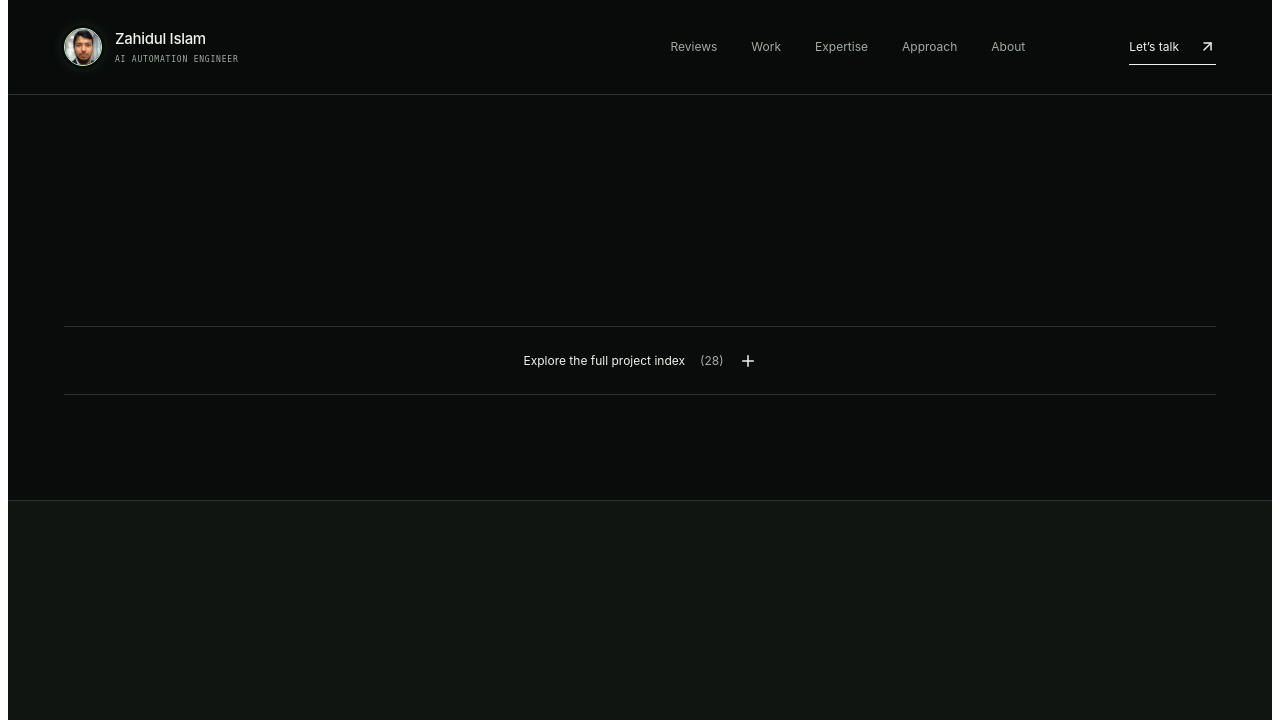
project dialog › makes non-featured tooling images accessible from the complete index
(page scrolled)
Click the button "Explore the full project index (28)" at point(640, 360), box x1=524 y1=341 x2=757 y2=380
(page scrolled)
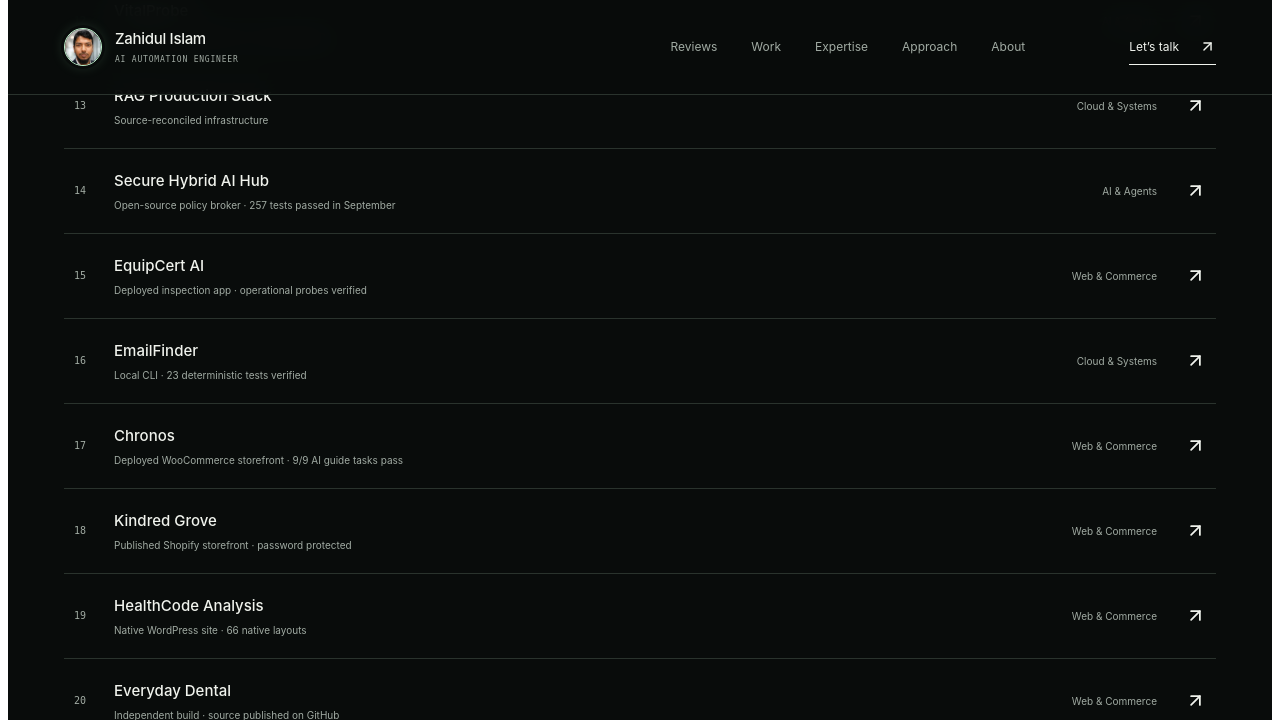
Click the link that starts with "EmailFinder" at point(156, 350), box x1=64 y1=318 x2=1216 y2=402
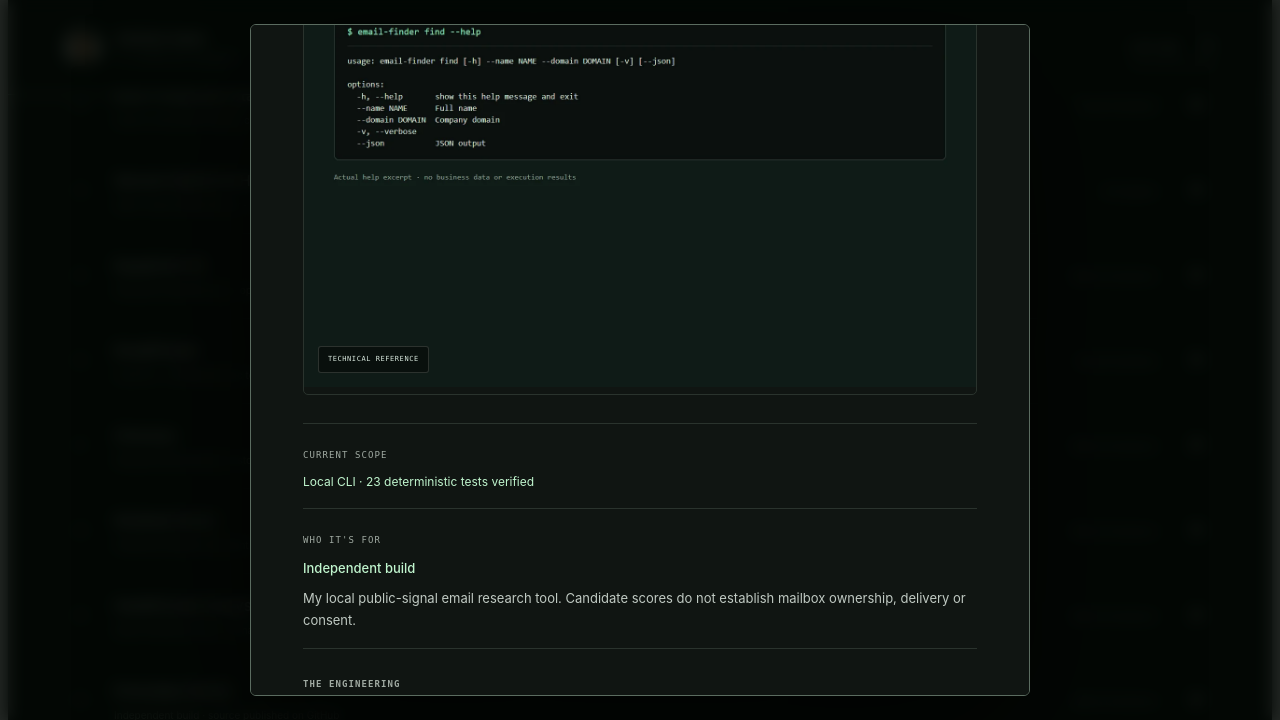
Check: the picture named "EmailFinder actual command-line help" is shown, box x1=304 y1=24 x2=976 y2=387
Check: the text "TECHNICAL REFERENCE" is shown, box x1=318 y1=346 x2=429 y2=373
